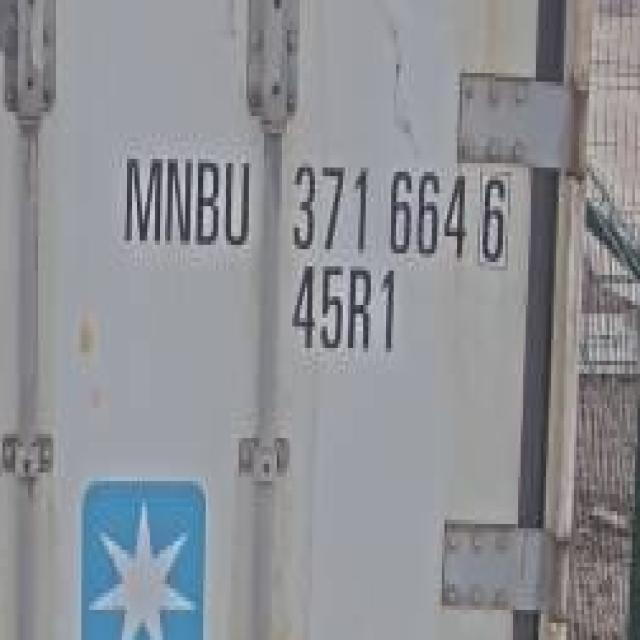dv: (476, 165, 512, 267)
owner: (118, 139, 259, 256)
serial: (290, 158, 468, 260)
size: (287, 260, 398, 364)
